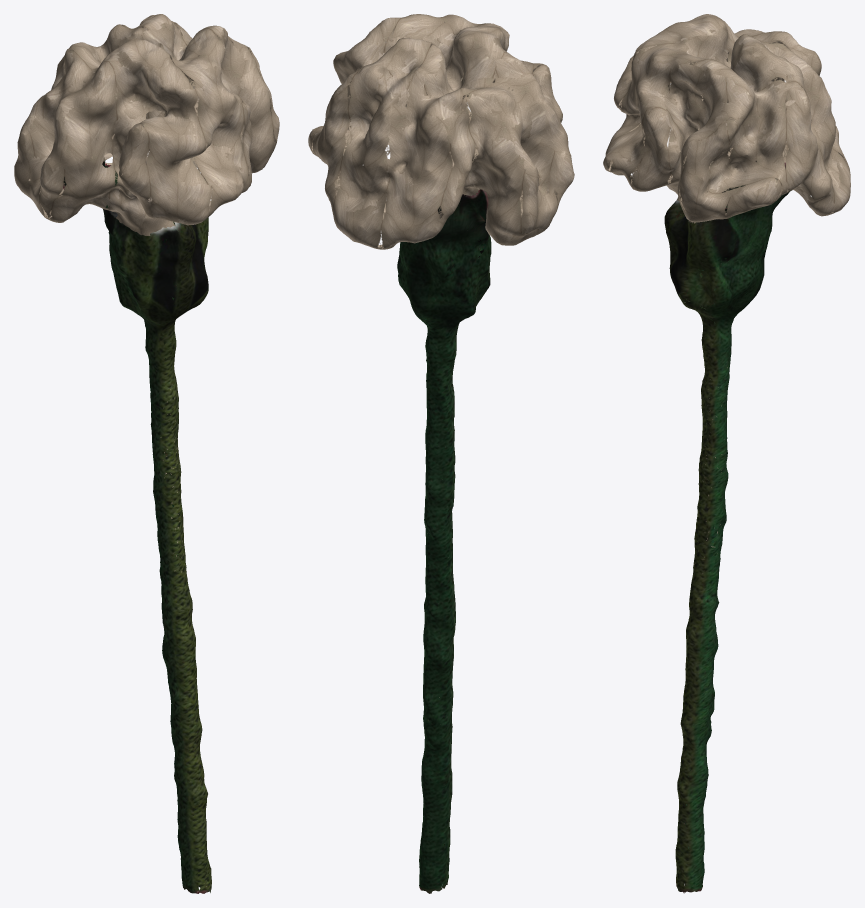
Rendered from carnation_single.glb.
3 renders of one model, left to right at view 1: azimuth 30°, elevation 25°; view 2: azimuth 150°, elevation 25°; view 3: azimuth 270°, elevation 25°, orthographic. The views are drawn at different scales.
Parts seen in each view (by area): view 1: Carnation_Petals, Carnation _Stem; view 2: Carnation_Petals, Carnation _Stem; view 3: Carnation_Petals, Carnation _Stem.
Boxes of the visible parts, x1,y1,x2,y2 form: Carnation_Petals: (14, 14, 279, 572); Carnation _Stem: (63, 160, 211, 893); Carnation_Petals: (308, 14, 574, 697); Carnation _Stem: (397, 189, 491, 893); Carnation_Petals: (603, 14, 850, 885); Carnation _Stem: (664, 161, 791, 893).
Size of the model in its own units: 0.5654 by 2 by 0.5306.
2 materials, 2 textured.
